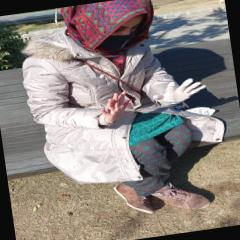gloved: (148, 76, 208, 109)
not-gloved: (99, 90, 136, 122)
